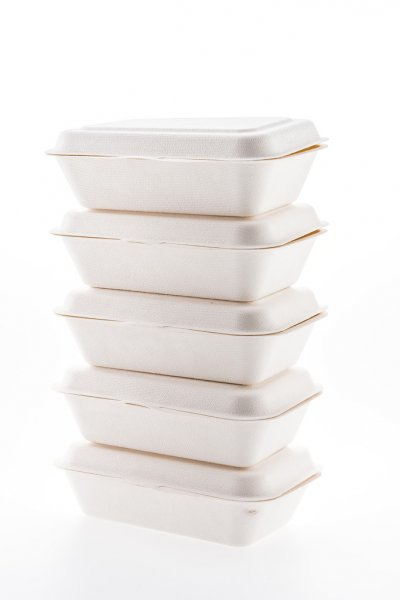Foam Box: (39, 108, 344, 555)
